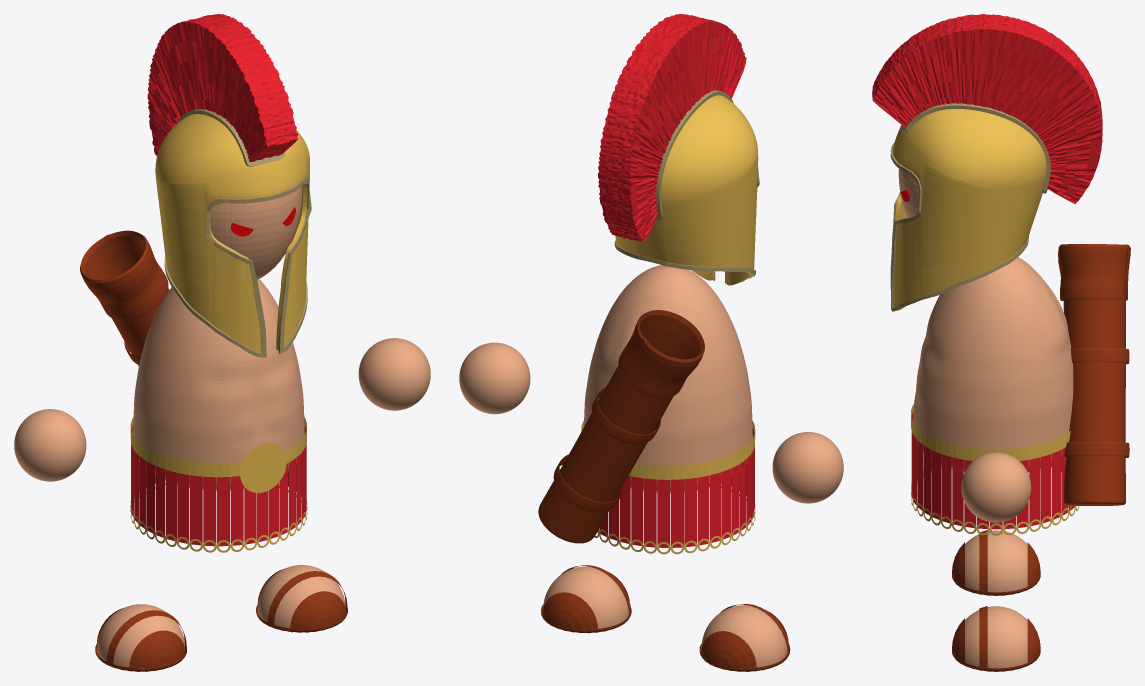
File: Jarid leerer Köcher.fbx
The picture shows the model from 3 angles, left to right: view 1: azimuth 30°, elevation 25°; view 2: azimuth 150°, elevation 25°; view 3: azimuth 270°, elevation 25°; orthographic projection. The views are drawn at different scales.
Visible parts, largest first — view 1: Body, Helm, Kamm Haare, Köcher, Fuß Rechts, Fuß links, Kopf, Hand links, Hand rechts; view 2: Body, Kamm Haare, Helm, Köcher, Fuß Rechts, Fuß links, Hand links, Hand rechts; view 3: Body, Helm, Kamm Haare, Köcher, Fuß links, Fuß Rechts, Hand links, Kopf.
Boxes of the visible parts, box(x1,y1,x2,y2) form: Body: box(130, 279, 307, 552); Helm: box(155, 109, 311, 357); Kamm Haare: box(147, 14, 298, 161); Köcher: box(80, 230, 169, 365); Fuß Rechts: box(95, 604, 186, 671); Fuß links: box(256, 565, 347, 632); Kopf: box(210, 186, 301, 279); Hand links: box(358, 338, 430, 410); Hand rechts: box(14, 409, 86, 481); Body: box(581, 265, 755, 554); Kamm Haare: box(598, 14, 746, 242); Helm: box(614, 90, 759, 285); Köcher: box(538, 310, 704, 543); Fuß Rechts: box(699, 604, 790, 671); Fuß links: box(541, 565, 631, 633); Hand links: box(459, 342, 530, 414); Hand rechts: box(772, 432, 843, 503); Body: box(911, 257, 1079, 535); Helm: box(890, 103, 1050, 311); Kamm Haare: box(872, 14, 1102, 204); Köcher: box(1058, 244, 1130, 505); Fuß links: box(952, 606, 1040, 671); Fuß Rechts: box(952, 530, 1040, 595); Hand links: box(961, 452, 1031, 522); Kopf: box(898, 169, 919, 217).
Bounding box in the file's own units: 379 × 568 × 223.
